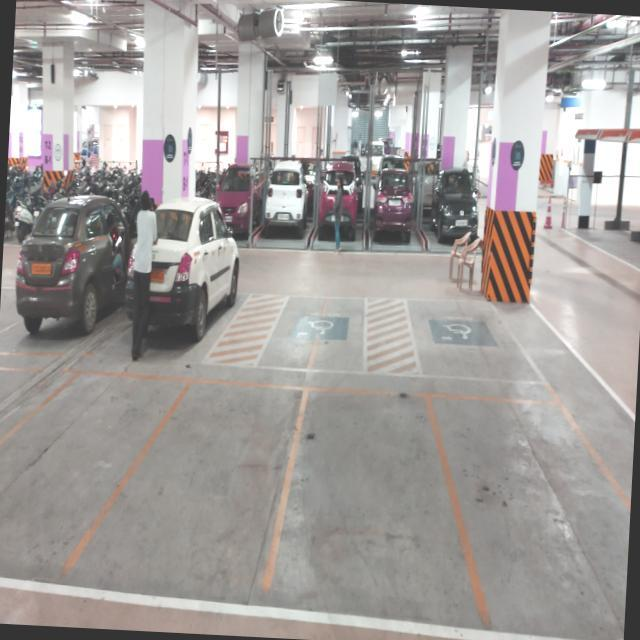car: (27, 210, 101, 343), (131, 231, 196, 372)
free: (458, 410, 586, 578), (311, 417, 419, 586), (150, 415, 264, 572), (23, 389, 102, 546)
